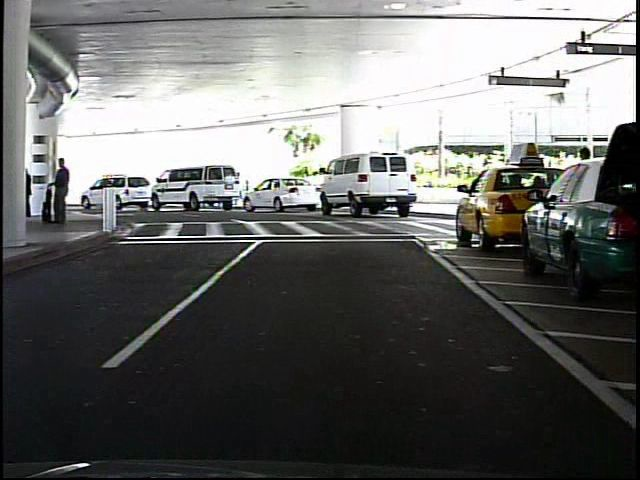person: (570, 142, 597, 240), (54, 156, 73, 225), (239, 170, 254, 209)
